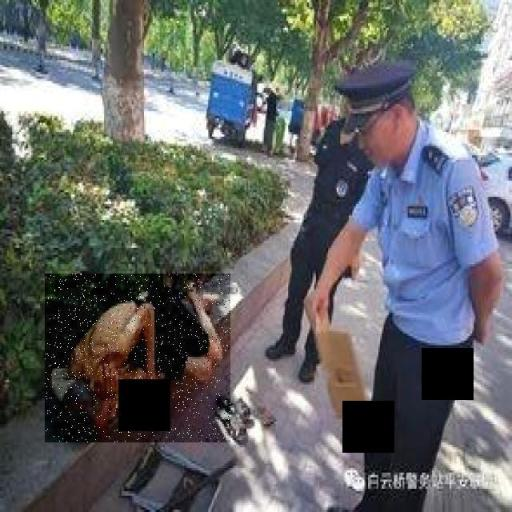Fall: (46, 274, 231, 443)
